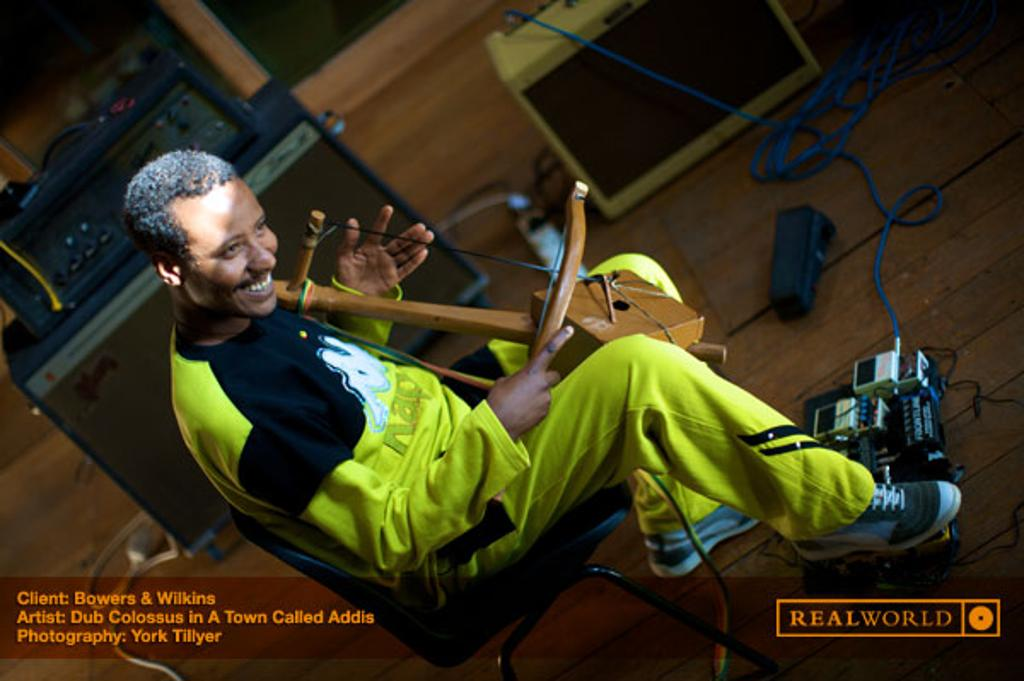face: (174, 186, 278, 318)
